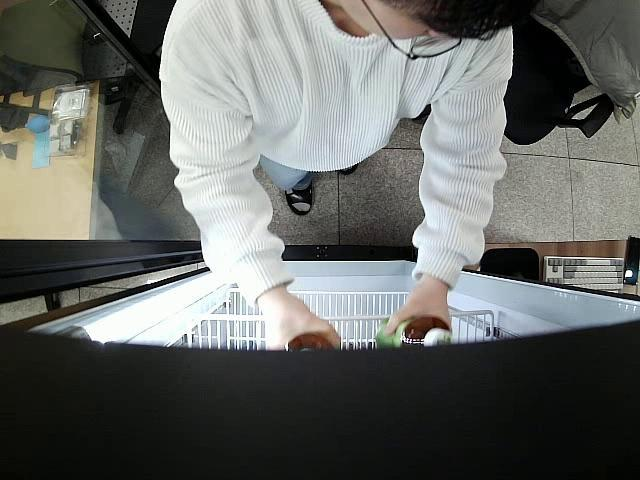19_17cha: (374, 316, 454, 349), (284, 330, 340, 354)
